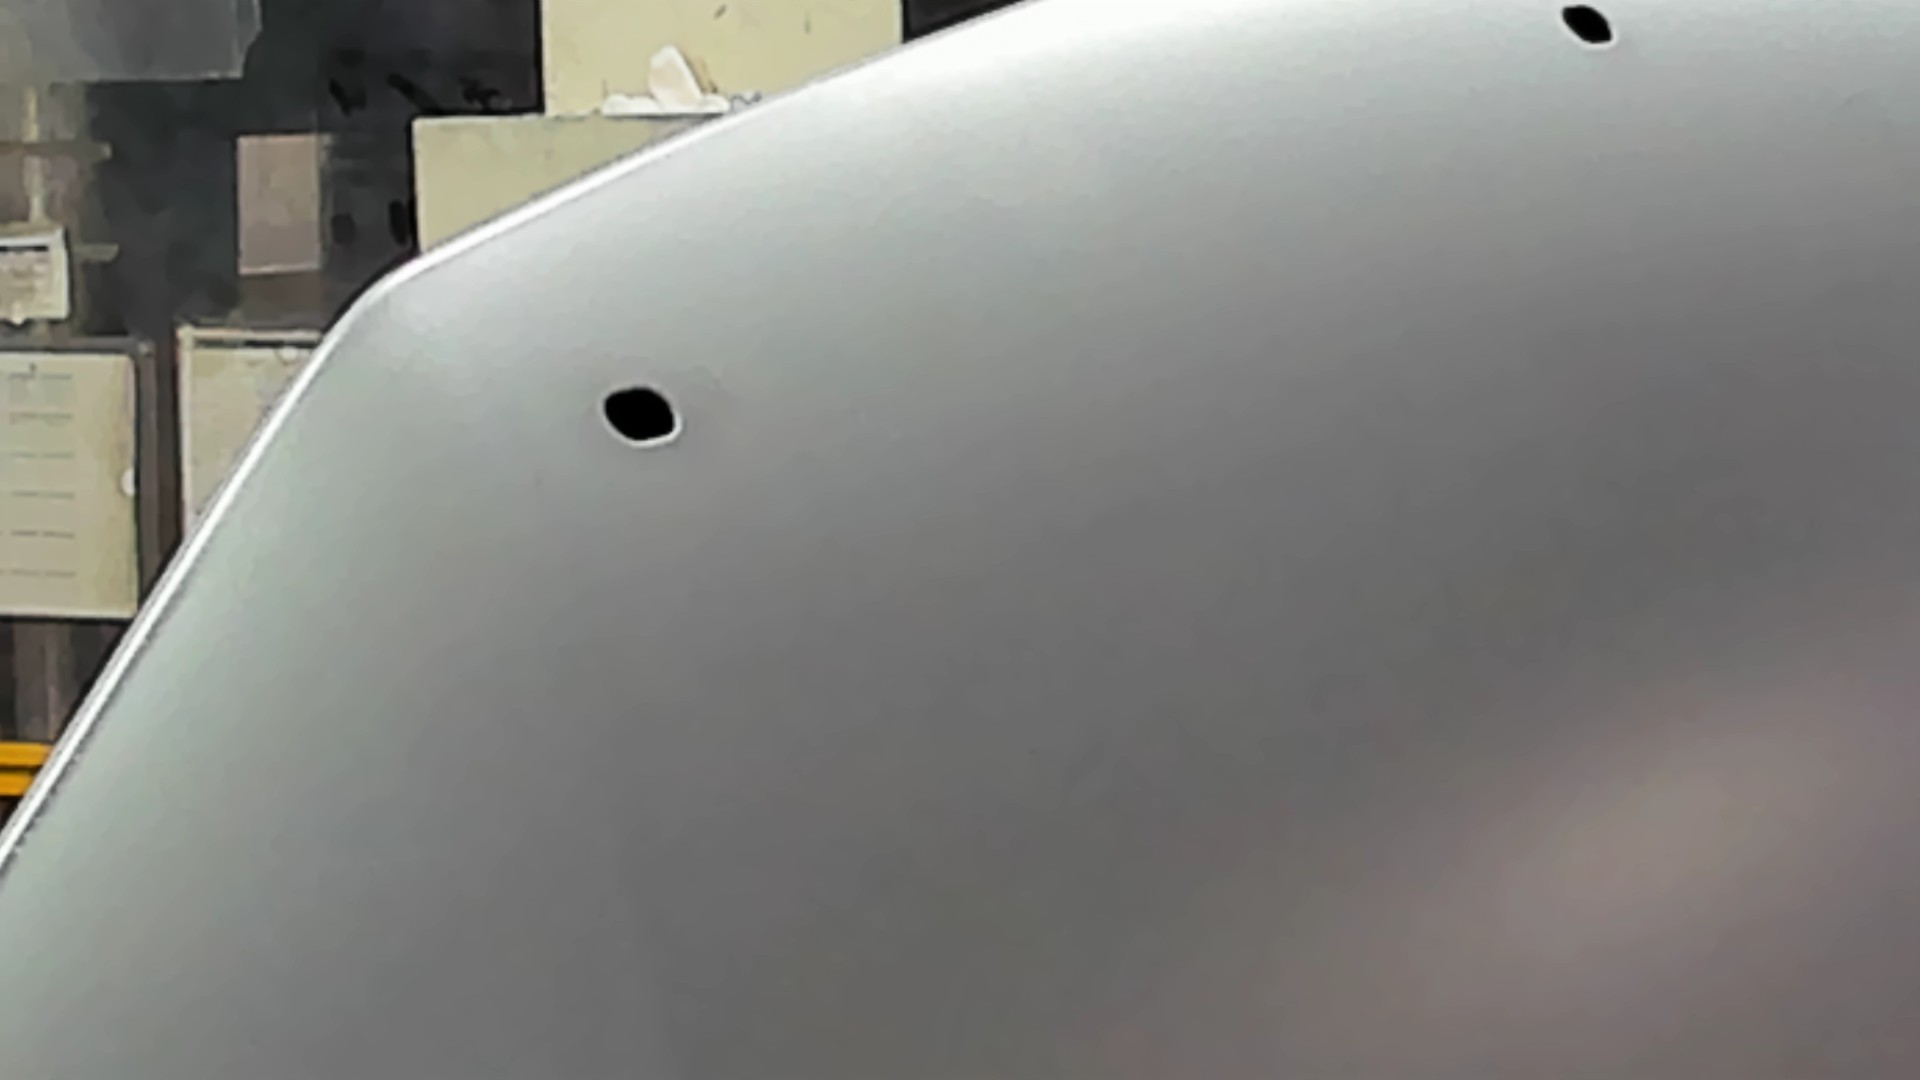amorfo: (591, 378, 694, 448), (1553, 1, 1625, 61)
capo: (839, 102, 1920, 1080)
